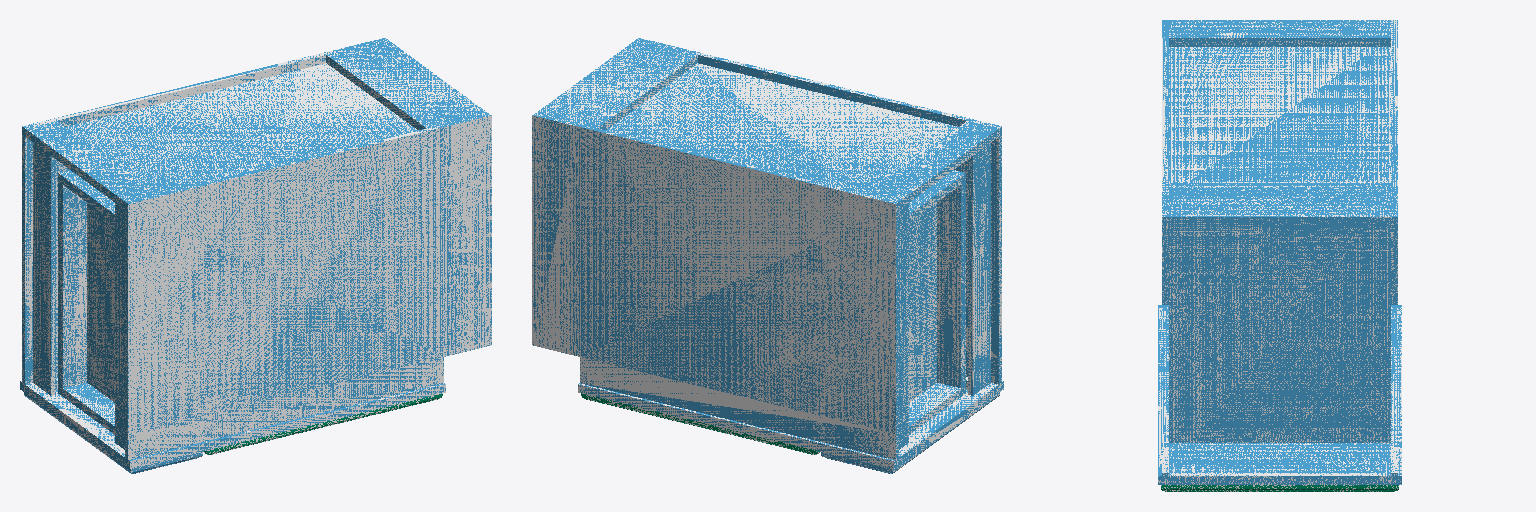
The robot description file, URDF, robot "right-pull-door":
<?xml version="1.0" ?>
<robot name="right-pull-door">
	<link name="base"/>
	<link name="link_0">
		<visual name="out-frame">
			<origin xyz="0 0 0"/>
			<geometry>
				<mesh filename="texture_dae/frame.dae" scale="0.8 0.8 0.8"/>
			</geometry>
		</visual>
		<collision>
			<origin xyz="0 0 0"/>
			<geometry>
				<mesh filename="texture_dae/frame.dae" scale="0.8 0.8 0.8"/>
			</geometry>
		</collision>
	</link>
	<joint name="joint_0" type="fixed">
		<origin rpy="1.570796326794897 0 -1.570796326794897" xyz="0 0 0"/>
		<child link="link_0"/>
		<parent link="base"/>
	</joint>
	<link name="link_1">
		<visual name="surf-board">
			<origin xyz="0.5756021499633789 -0.3271514650786183 0"/>
			<geometry>
				<mesh filename="texture_dae/board.dae" scale="0.8 0.8 0.8"/>
			</geometry>
		</visual>
		<collision>
			<origin xyz="0.5756021499633789 -0.3271514650786183 0"/>
			<geometry>
				<mesh filename="texture_dae/board.dae" scale="0.8 0.8 0.8"/>
			</geometry>
		</collision>
	</link>
	<joint name="joint_1" type="revolute">
		<origin xyz="-0.5756021499633789 0.3271514650786183 0"/>
		<axis xyz="0 -1 0"/>
		<child link="link_1"/>
		<parent link="link_0"/>
		<limit lower="0" upper="1.5079644737231006"/>
	</joint>
	<link name="link_2">
		<visual name="handle">
			<origin xyz="0 0 0"/>
			<geometry>
				<mesh filename="texture_dae/9962014.dae" scale="1.0359617858498098 1.0359617858498098 1.0359617858498098"/>
			</geometry>
		</visual>
		<collision>
			<origin xyz="0 0 0"/>
			<geometry>
				<mesh filename="texture_dae/9962014.dae" scale="1.0359617858498098 1.0359617858498098 1.0359617858498098"/>
			</geometry>
		</collision>
	</link>
	<joint name="joint_2" type="revolute">
		<origin xyz="0.5756021499633789 -0.3271514650786183 0.013056336269543679"/>
		<child link="link_2"/>
		<parent link="link_1"/>
		<axis xyz="0 0 1"/>
		<limit lower="0" upper="1.5079644737231006"/>
	</joint>
</robot>

--- Facts derived from the render (not from the file) ---
Views: 3 orthographic renders of the robot side by side, from view 1: azimuth 30°, elevation 25°; view 2: azimuth 150°, elevation 25°; view 3: azimuth 270°, elevation 25°.
Robot: right-pull-door — 4 links, 3 joints (2 revolute, 1 fixed); root link base; default pose: all joints at 0.
Visible links, largest first — view 1: link_0, link_1; view 2: link_0, link_1; view 3: link_0, link_1.
Link boxes in pixels (box(x1,y1,x2,y2)): link_0: box(20, 38, 491, 473); link_1: box(204, 393, 442, 454); link_0: box(532, 38, 1003, 473); link_1: box(581, 393, 819, 454); link_0: box(1158, 20, 1401, 484); link_1: box(1161, 485, 1398, 491).
Size in the robot's own frame: 1.2 by 0.627 by 0.8924 metres.
Meshes: 3 distinct files referenced, 2 mesh visuals loaded (2 Collada DAE); not drawn: 1 (reference not matched to a file when rendering).